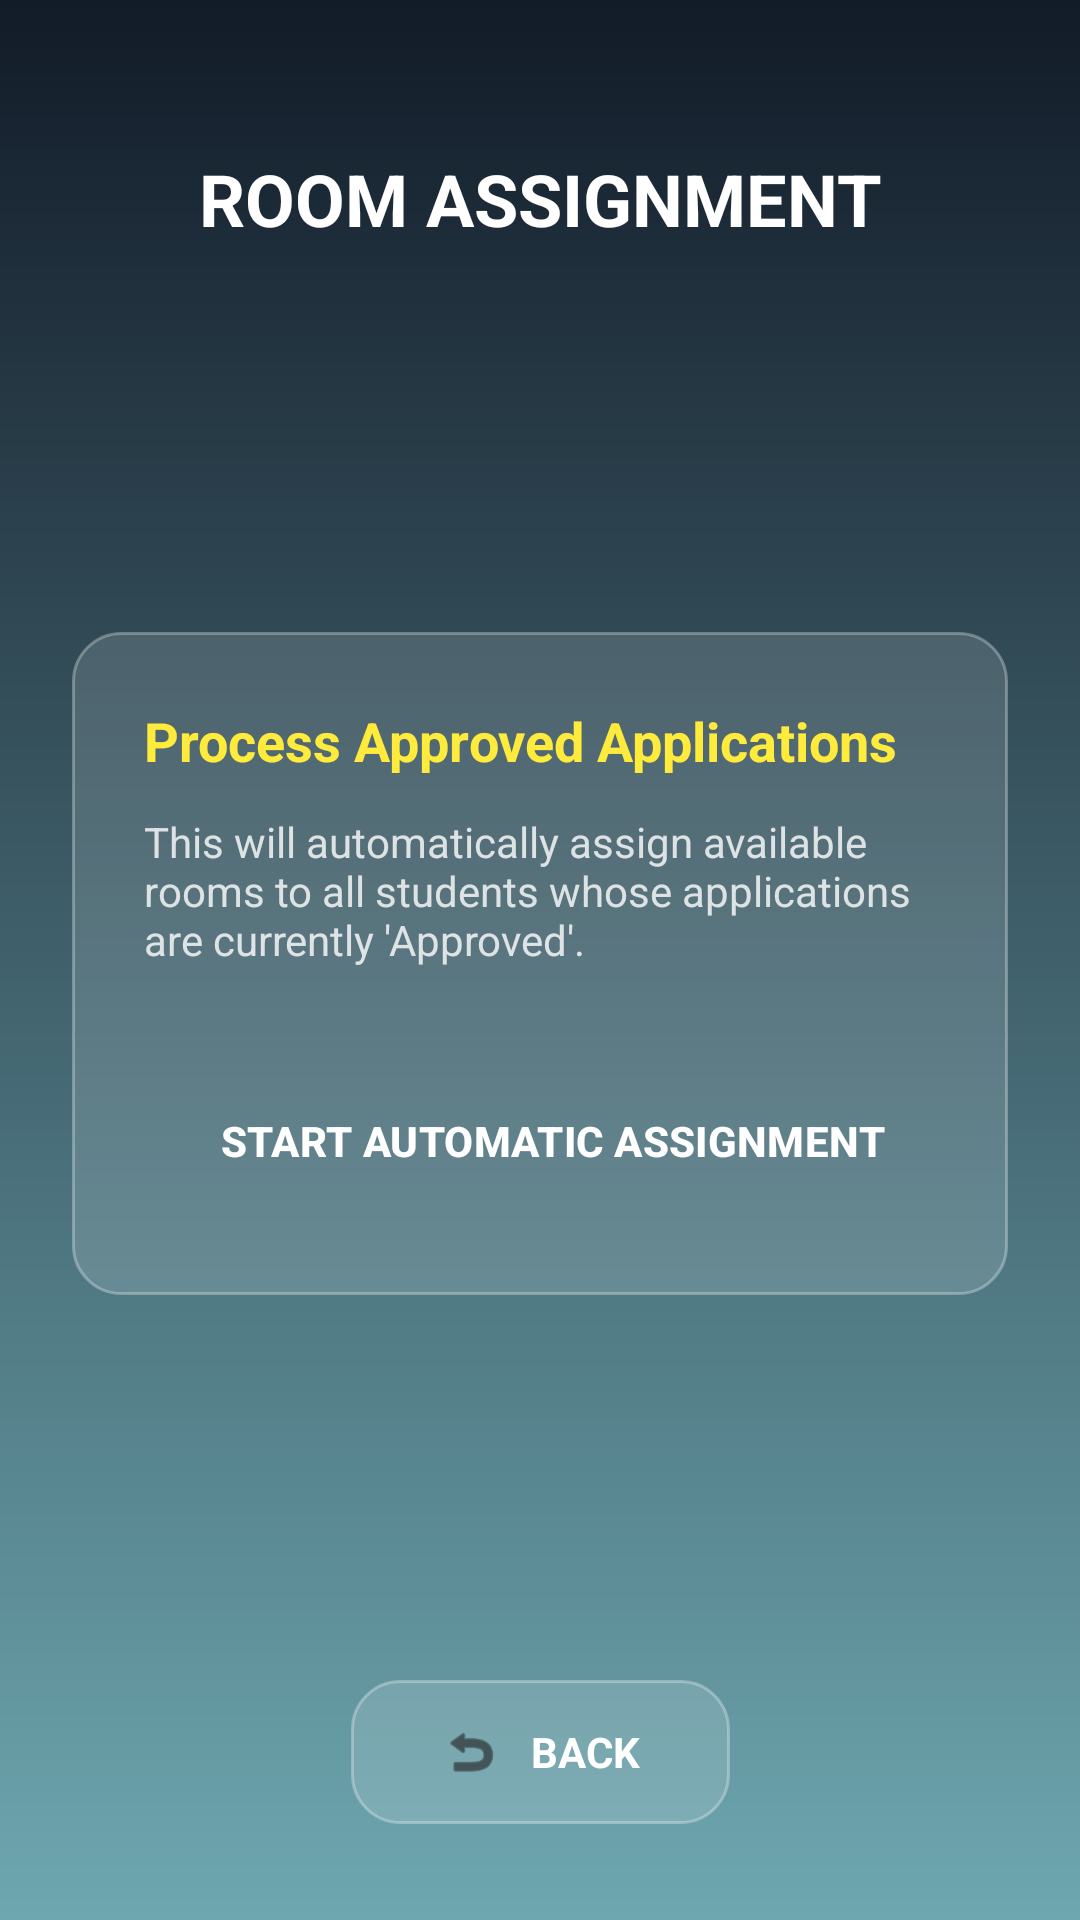

Icon click points for this 1080x1920 phone screenshot, format (x,y):
revert: (471,1752)
